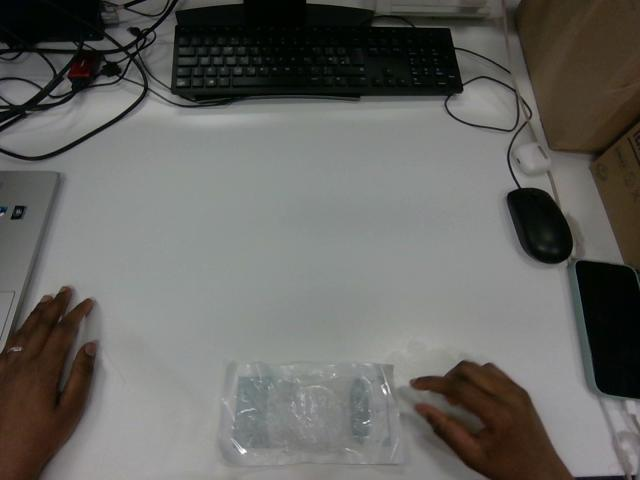gallipot: (219, 363, 402, 465)
